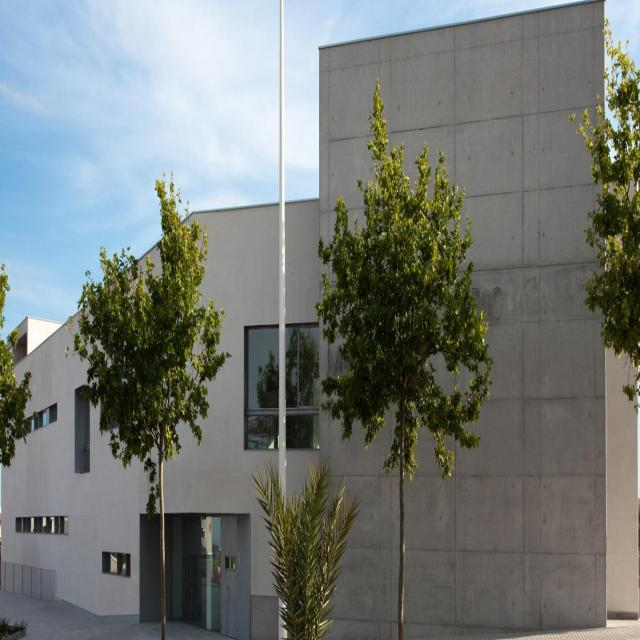door: (220, 513, 251, 639)
plant: (315, 79, 492, 638), (66, 174, 233, 637), (569, 16, 640, 414), (253, 454, 361, 639), (0, 261, 31, 468)
wall: (0, 0, 640, 639)
windows: (247, 327, 319, 451), (170, 509, 222, 635), (26, 401, 58, 436), (16, 518, 69, 535), (109, 551, 131, 580)
